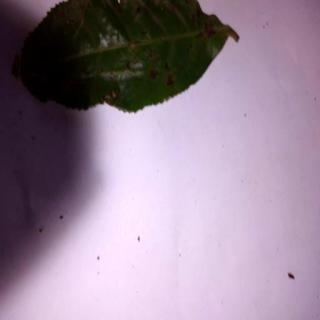Bird Eye Spot: (15, 1, 240, 113)
